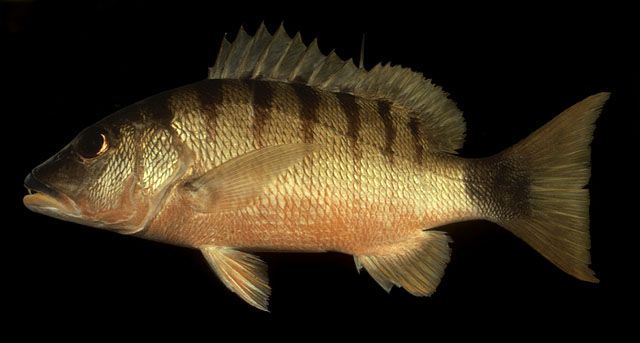fish: (22, 24, 611, 313)
